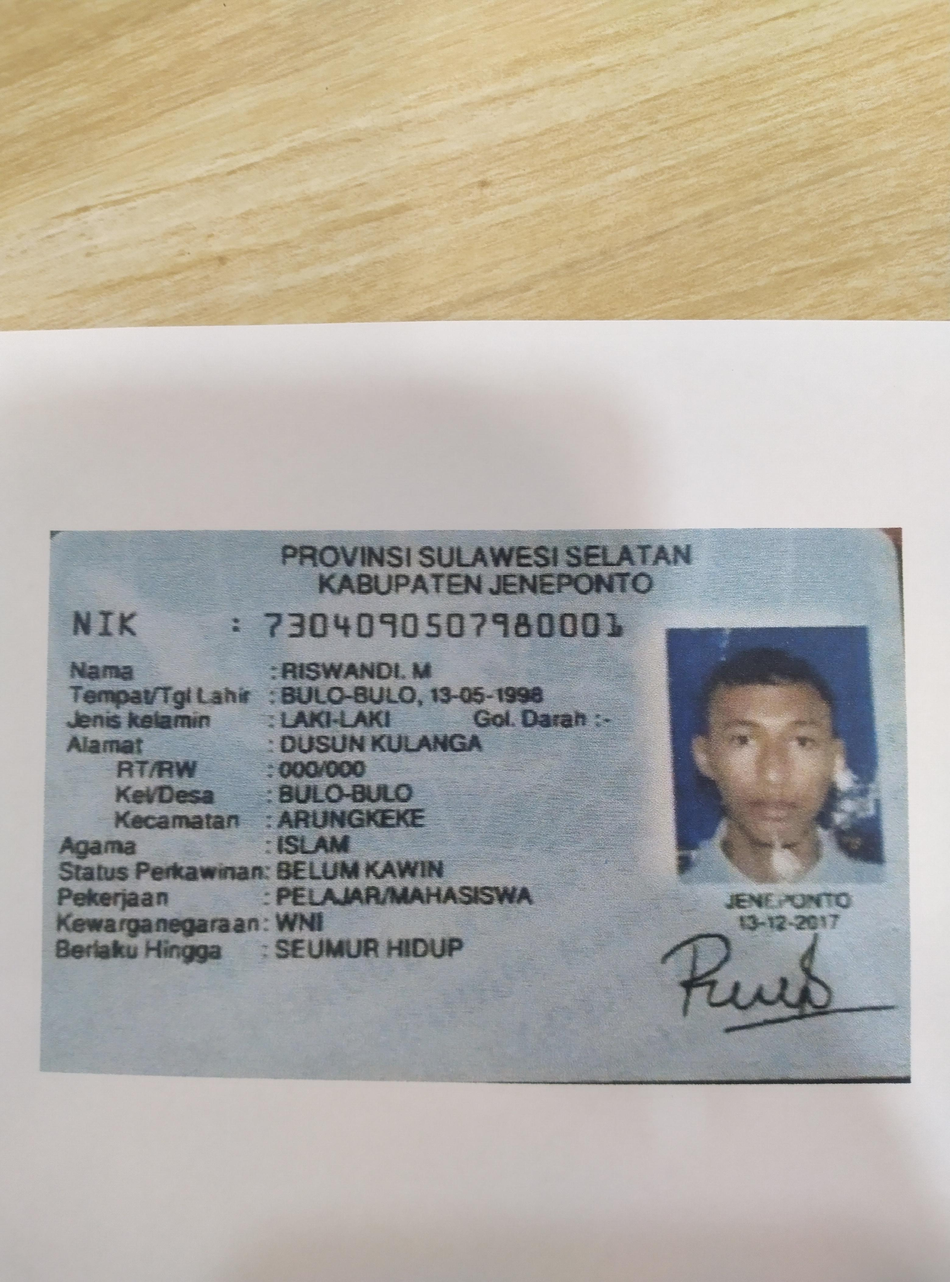ktp: (45, 524, 908, 1084)
